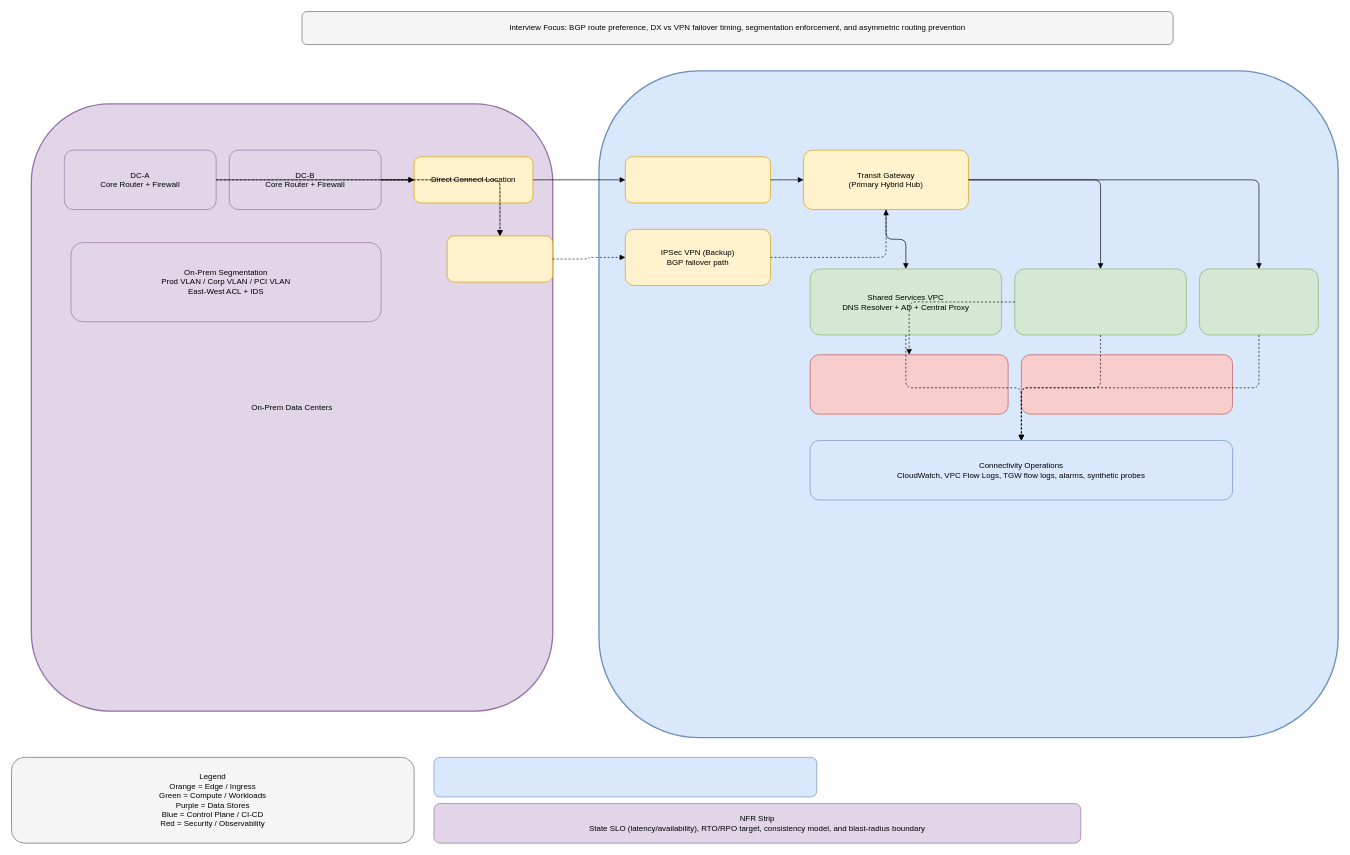
Image size: 1350x855. Some labels were removed from this diagram. Each missing label, with the centre of its shape:
App VPC EKS/ECS + RDS: point (1100, 301)
AWS Network Firewall Central Egress Inspection: point (908, 384)
Customer Gateway: point (499, 258)
Data VPC Analytics + Data Lake: point (1258, 301)
Direct Connect Gateway: point (698, 179)
SG + NACL + Route Domains Per-segment policy boundaries: point (1127, 384)
Trust Boundaries Internet/On-Prem -> Edge -> Private Compute -> Data Tier: point (625, 777)
